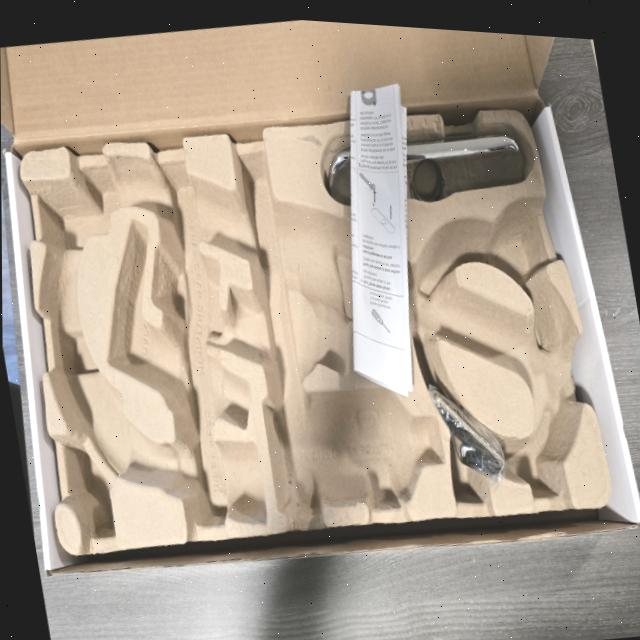1m: (42, 158, 584, 521)
2m: (108, 216, 249, 429)
3m: (265, 383, 446, 510)
4o: (328, 134, 522, 200)
5m: (490, 213, 541, 278)
6m: (512, 406, 574, 501)
7: (430, 384, 506, 489)
8: (349, 85, 414, 396)
